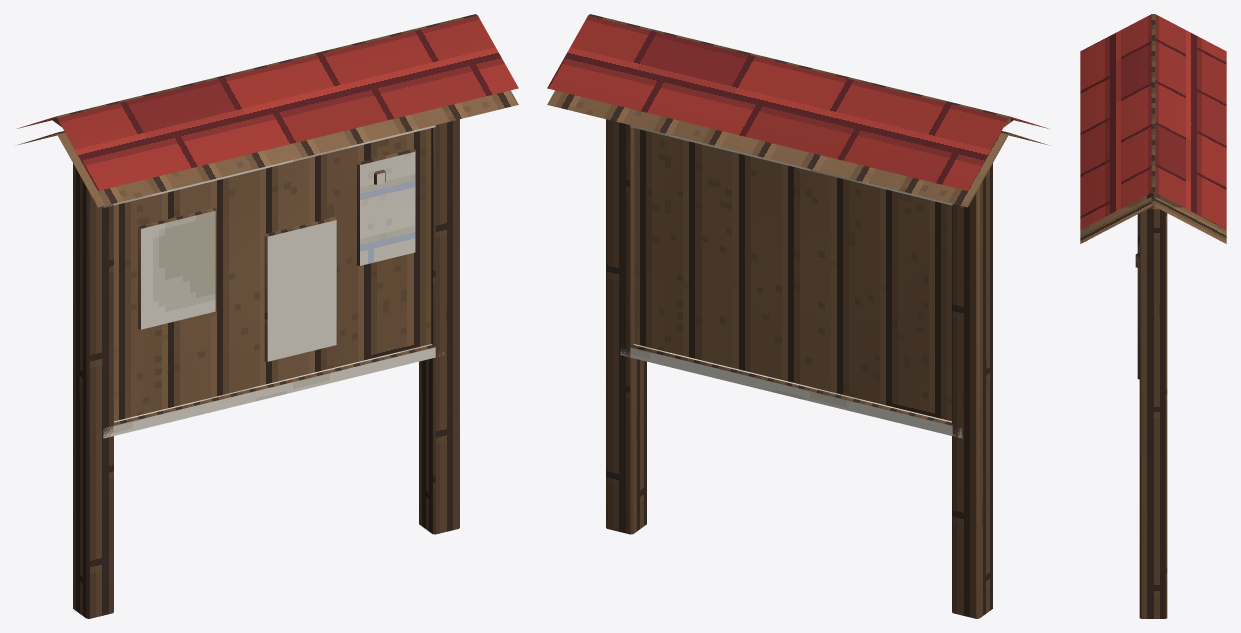
Rendered from spec_notice_board_1.glb.
The picture shows the model from 3 angles, left to right: view 1: azimuth 30°, elevation 25°; view 2: azimuth 150°, elevation 25°; view 3: azimuth 270°, elevation 25°; orthographic projection. The views are drawn at different scales.
Visible parts, largest first — view 1: spec_notice_board_1; view 2: spec_notice_board_1; view 3: spec_notice_board_1.
Part boxes in pixels (x1,y1,x2,y2): spec_notice_board_1: [16, 14, 518, 618]; spec_notice_board_1: [547, 14, 1049, 618]; spec_notice_board_1: [1080, 14, 1226, 618].
Bounding box in the file's own units: 2.14 × 2.44 × 0.74.
7 materials, 7 textured.
